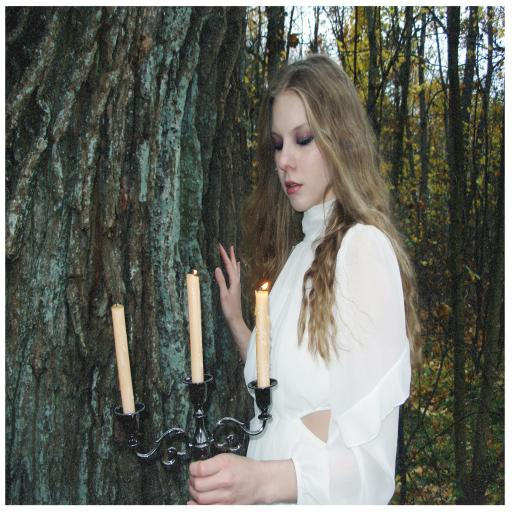candlelight: (104, 300, 145, 418), (186, 260, 208, 388), (254, 272, 274, 396)
